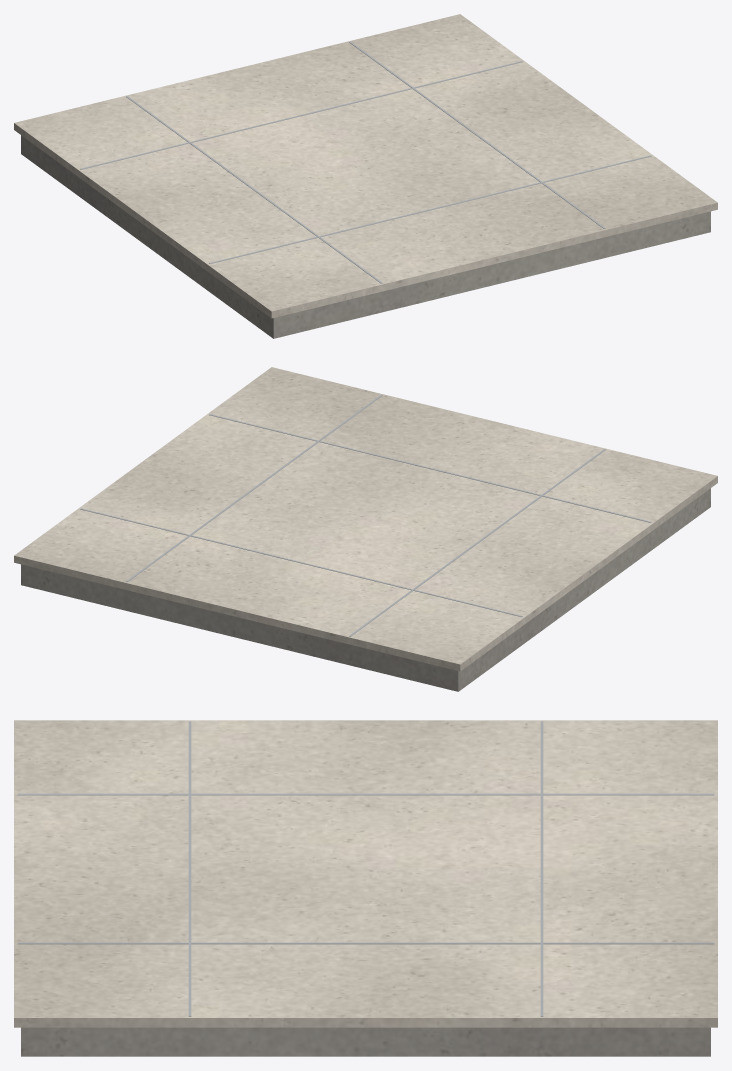
File: floor_terrazzo_g.glb
3 renders of one model, top to bottom at view 1: azimuth 30°, elevation 25°; view 2: azimuth 150°, elevation 25°; view 3: azimuth 270°, elevation 25°, orthographic. The views are drawn at different scales.
Visible parts, largest first — view 1: floor_terrazzo_g_terrazzo, floor_terrazzo_g_concrete, floor_terrazzo_g_steel; view 2: floor_terrazzo_g_terrazzo, floor_terrazzo_g_concrete, floor_terrazzo_g_steel; view 3: floor_terrazzo_g_terrazzo, floor_terrazzo_g_concrete, floor_terrazzo_g_steel.
Boxes of the visible parts, <box> form: floor_terrazzo_g_terrazzo: <box>14,14,717,318</box>; floor_terrazzo_g_concrete: <box>21,135,710,338</box>; floor_terrazzo_g_steel: <box>80,41,651,283</box>; floor_terrazzo_g_terrazzo: <box>14,367,717,671</box>; floor_terrazzo_g_concrete: <box>21,488,710,691</box>; floor_terrazzo_g_steel: <box>80,394,651,636</box>; floor_terrazzo_g_terrazzo: <box>14,720,717,1027</box>; floor_terrazzo_g_concrete: <box>21,1027,710,1056</box>; floor_terrazzo_g_steel: <box>17,721,714,1016</box>.
Bounding box in the file's own units: 2 × 0.1315 × 2.
Materials: 3 (2 with a texture image).
